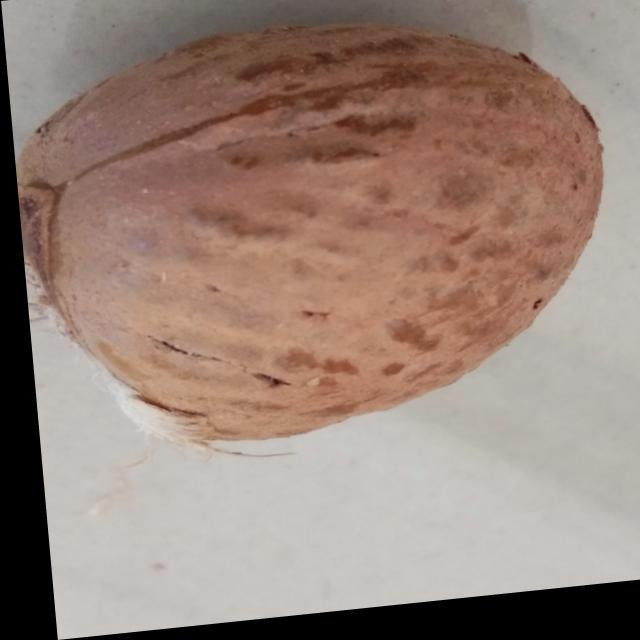phatora: (3, 0, 640, 475)
